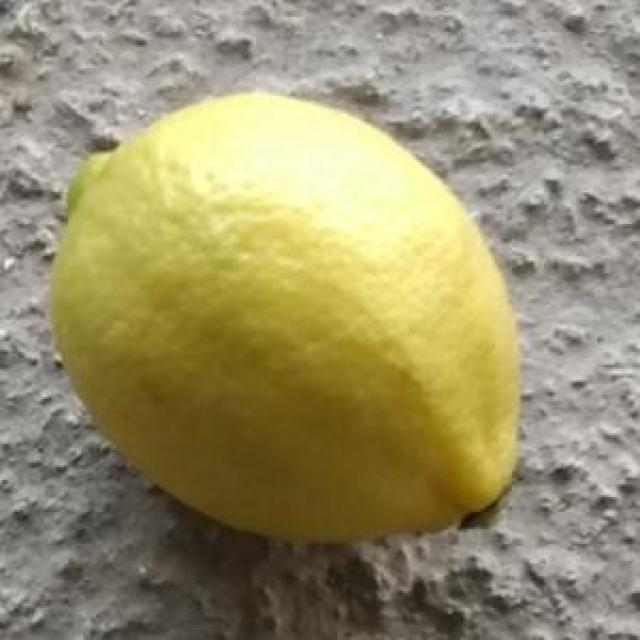lemon: (47, 92, 518, 538)
